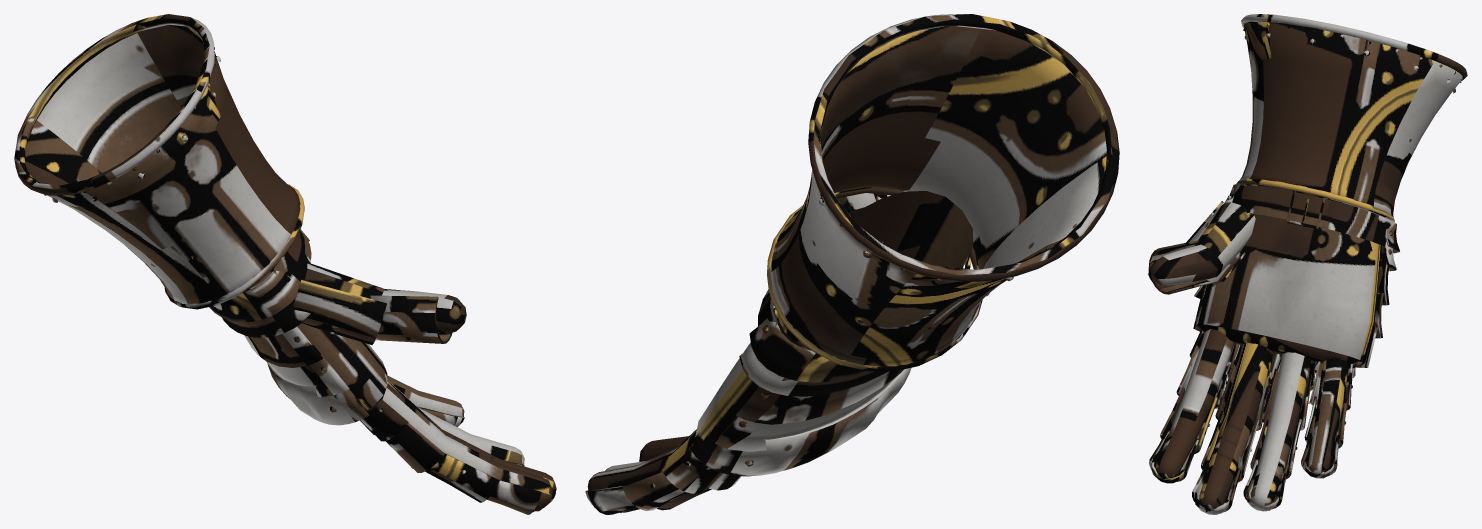
File: SM_EagleGauntlets_L_LOD1.fbx
3 renders of one model, left to right at view 1: azimuth 30°, elevation 25°; view 2: azimuth 150°, elevation 25°; view 3: azimuth 270°, elevation 25°, orthographic. The views are drawn at different scales.
Parts seen in each view (by area): view 1: SM_EagleGauntlets_L_LOD1; view 2: SM_EagleGauntlets_L_LOD1; view 3: SM_EagleGauntlets_L_LOD1.
Boxes of the visible parts, x1=… form: SM_EagleGauntlets_L_LOD1: x1=14, y1=14, x2=556, y2=514; SM_EagleGauntlets_L_LOD1: x1=585, y1=14, x2=1119, y2=514; SM_EagleGauntlets_L_LOD1: x1=1148, y1=14, x2=1467, y2=514.
Bounding box in the file's own units: 0.2575 × 0.2734 × 0.2019.
